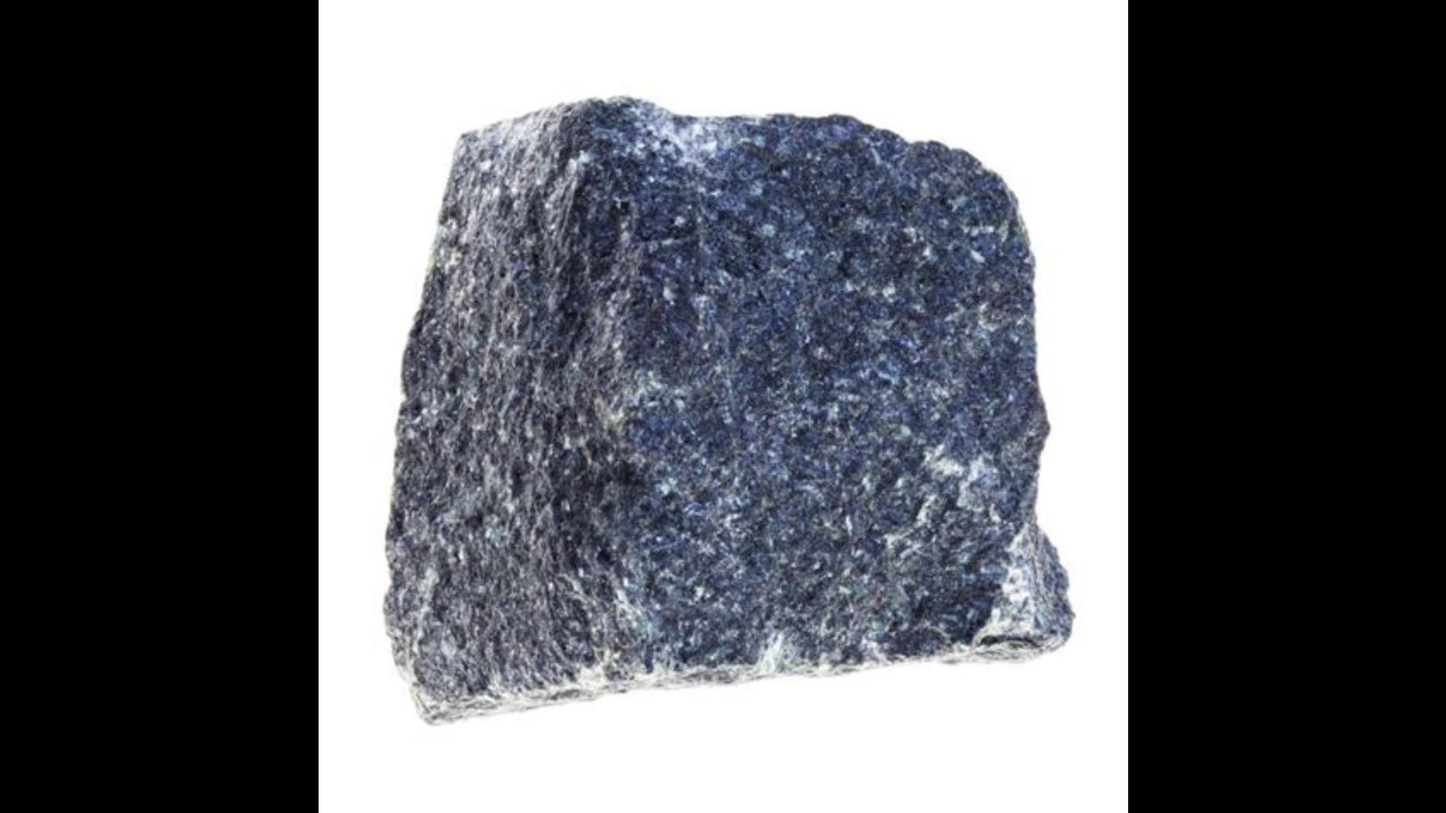rock: (388, 99, 1065, 716)
